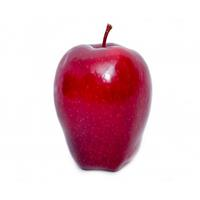apple: (47, 27, 159, 173)
